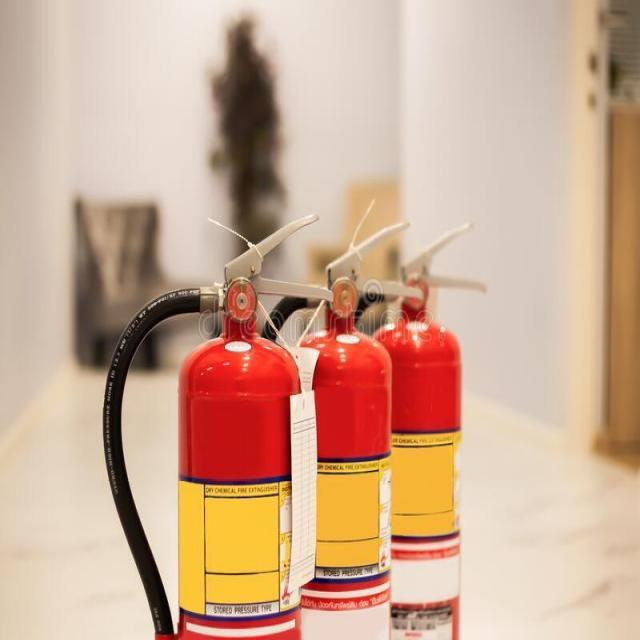fire_extinguisher: (96, 205, 340, 639), (254, 217, 427, 639), (346, 217, 490, 639)
